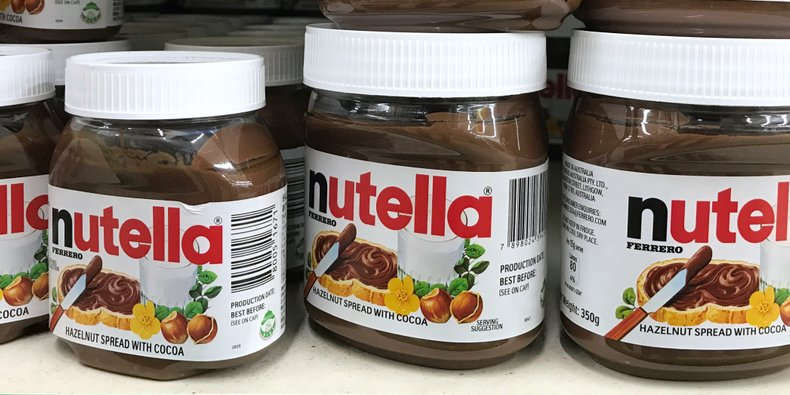nutella: (302, 30, 552, 371), (557, 35, 790, 380), (48, 49, 287, 382)
